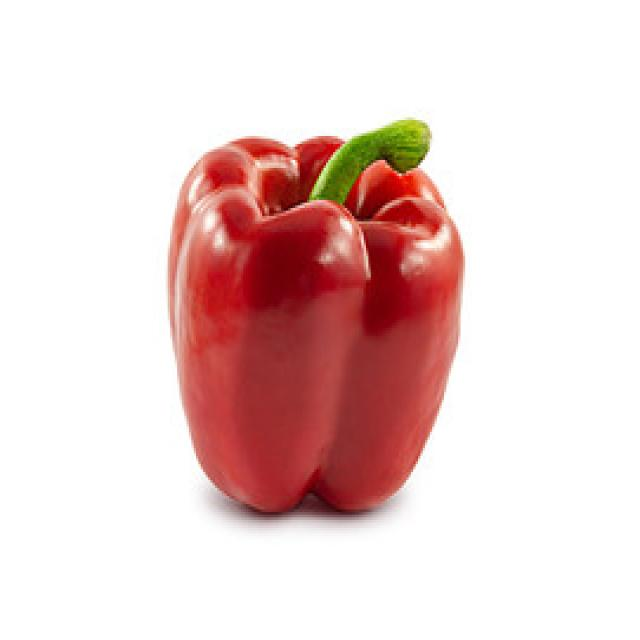Bell Pepper: (166, 114, 466, 514)
